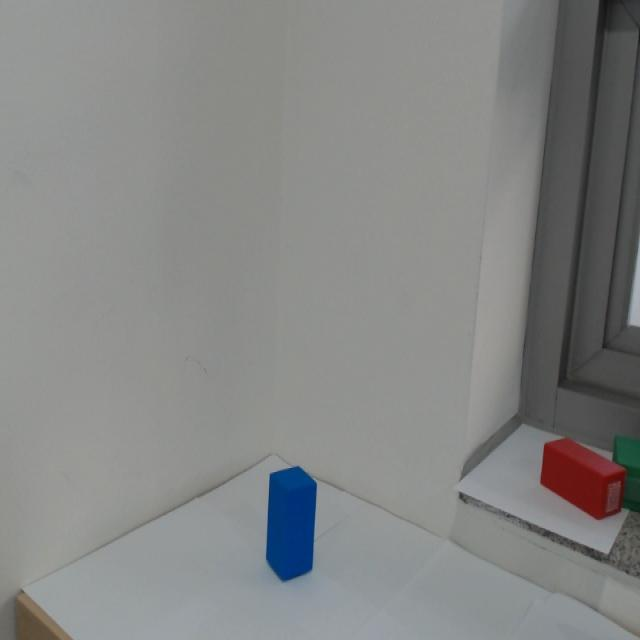cube: (255, 443, 348, 597)
